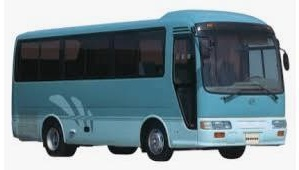bus: (12, 10, 290, 161)
